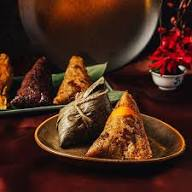zongzi: (86, 92, 151, 159), (56, 77, 111, 147), (11, 57, 52, 107), (53, 56, 91, 103)
